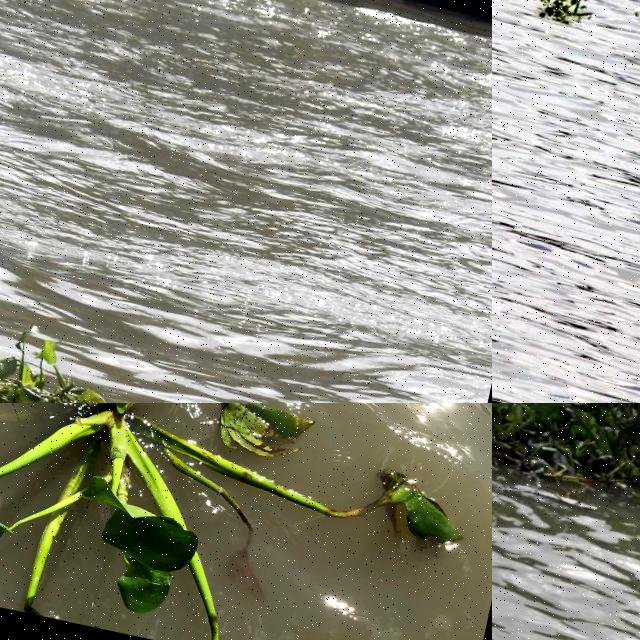water-hyacinth: (1, 404, 493, 640), (493, 404, 640, 601), (1, 316, 158, 404), (514, 1, 599, 31)
